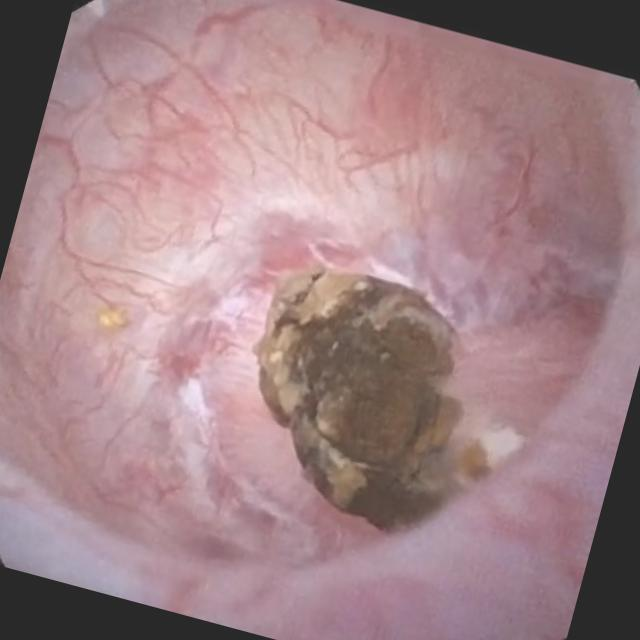stone-new: (256, 268, 461, 528), (96, 306, 125, 328)
